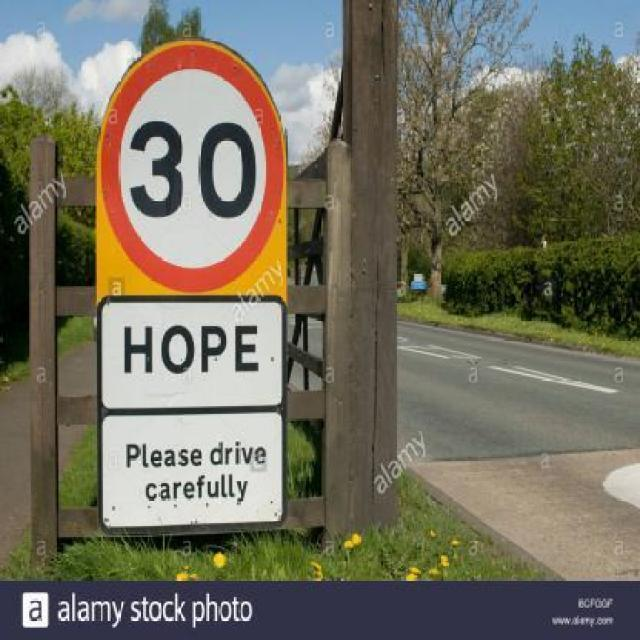Ograniczenie predkosci do 30: (102, 45, 282, 292)
